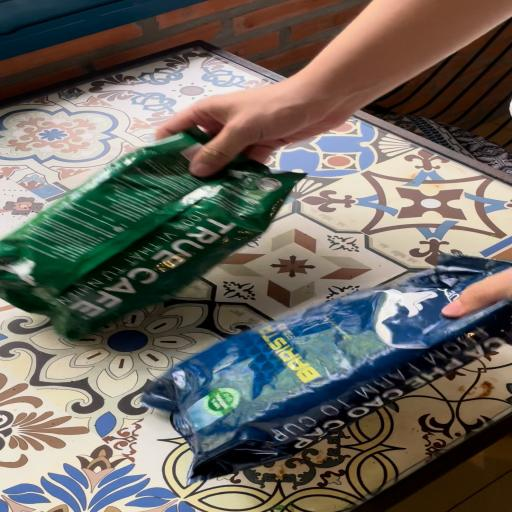cafe_hat: (142, 255, 512, 482)
cafe_xay: (0, 129, 302, 337)
